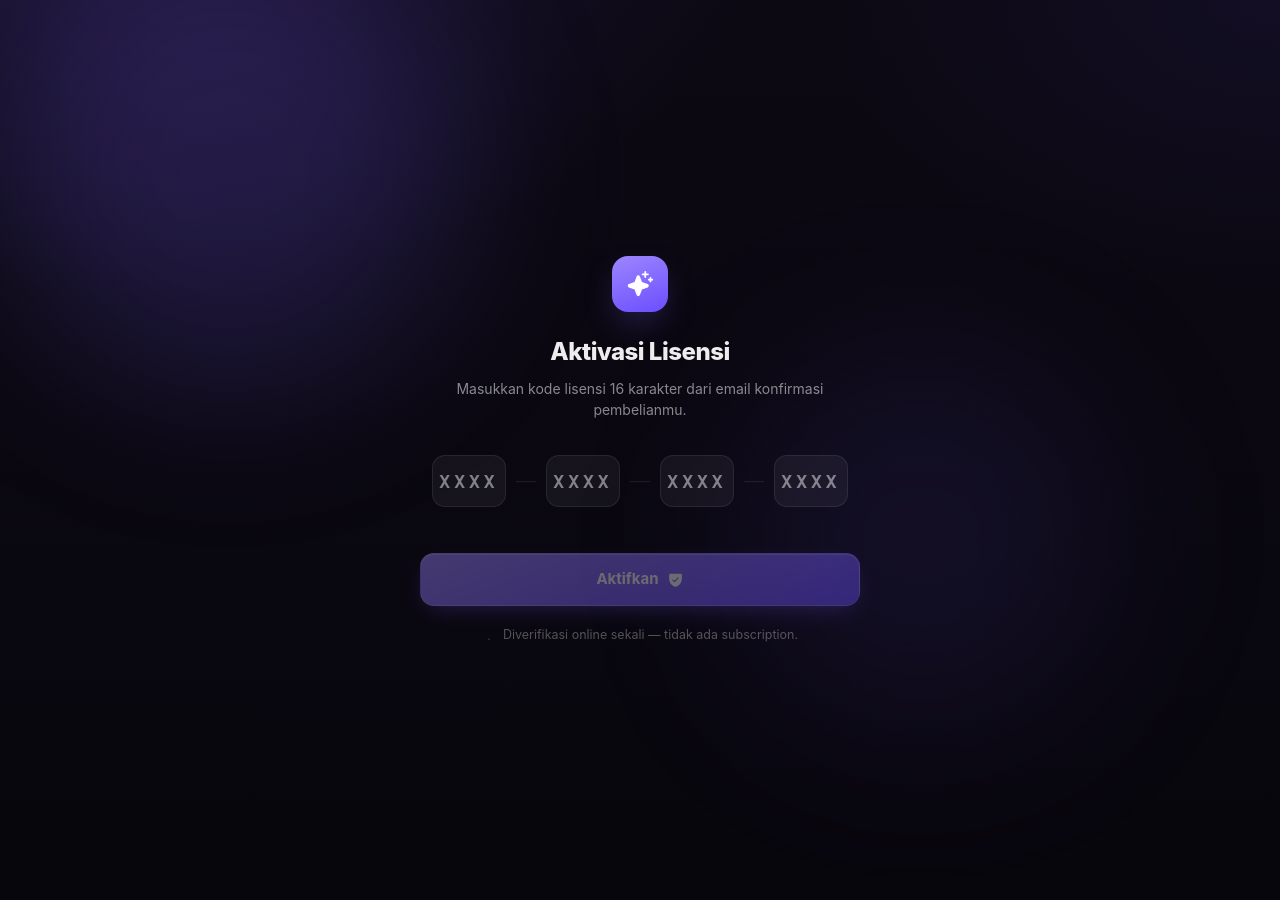
Scenario: ActivationScreen › shows an inline error for an invalid license
This screenshot has width=1280, height=900.
Type "ABCD" into the 1st field with placeholder "XXXX".
click(469, 481); type("ABCD")  # box x1=432 y1=455 x2=506 y2=507
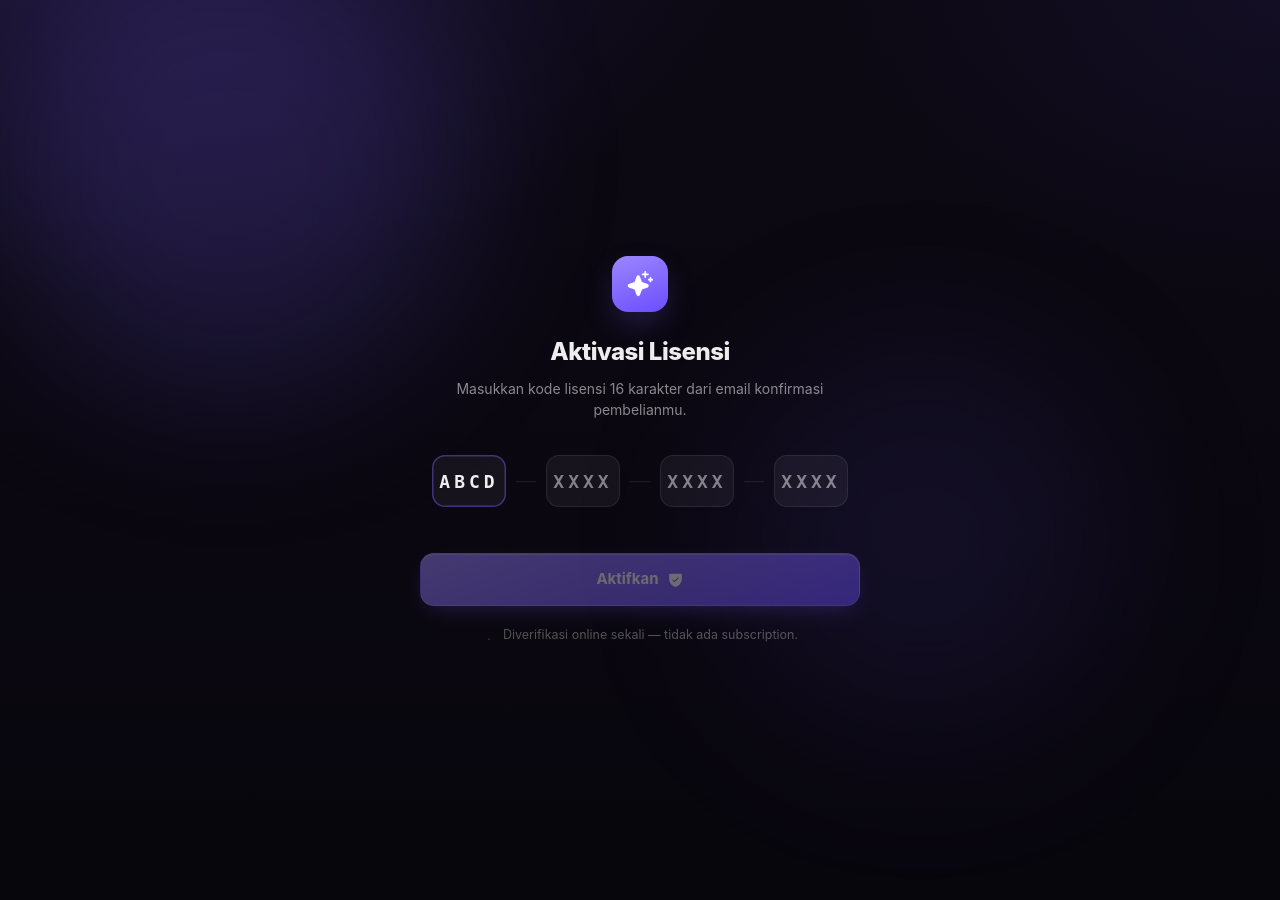
Type "ABCD" into the 1st field with placeholder "XXXX".
click(583, 481); type("ABCD")  # box x1=546 y1=455 x2=620 y2=507
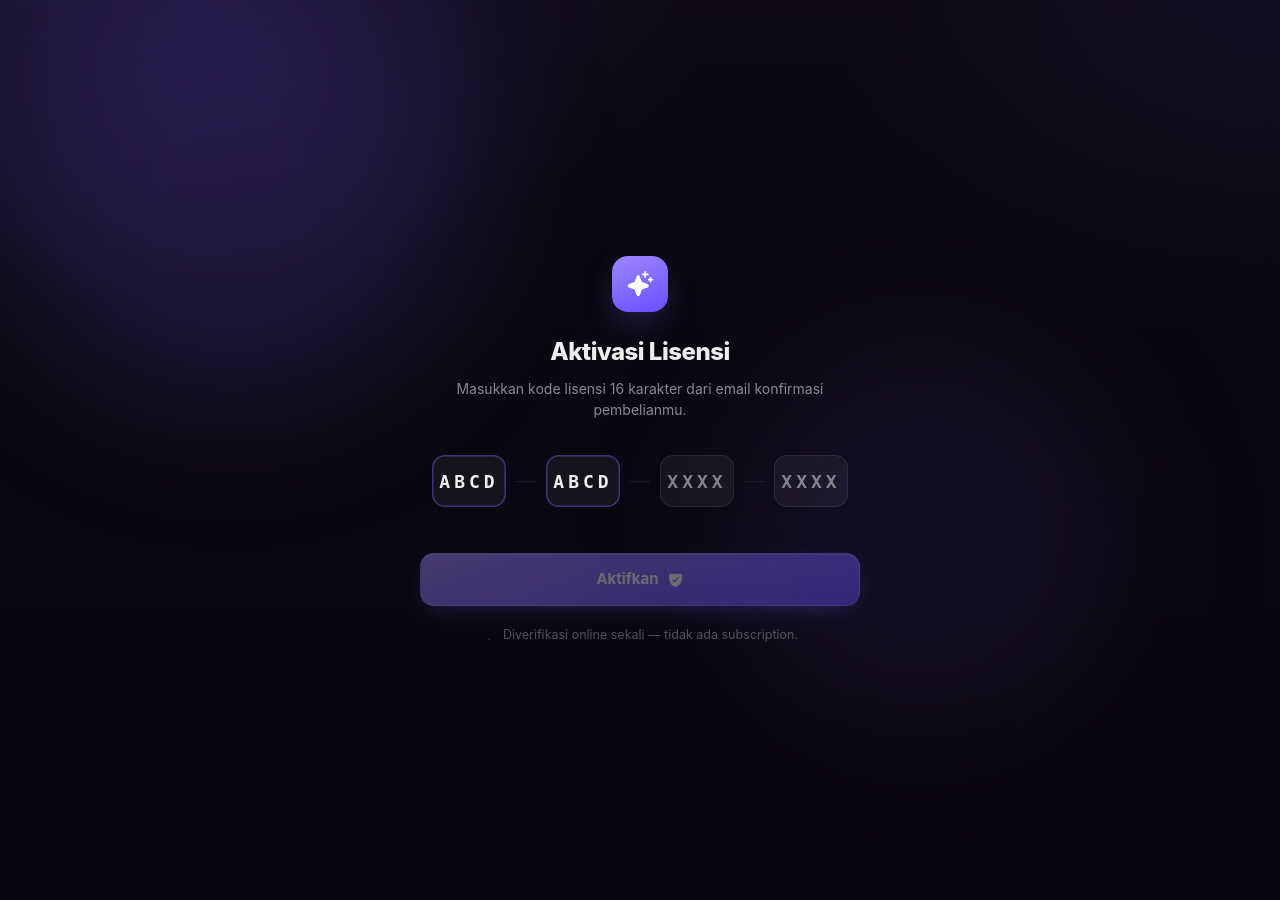
Type "ABCD" into the 1st field with placeholder "XXXX".
click(697, 481); type("ABCD")  # box x1=660 y1=455 x2=734 y2=507
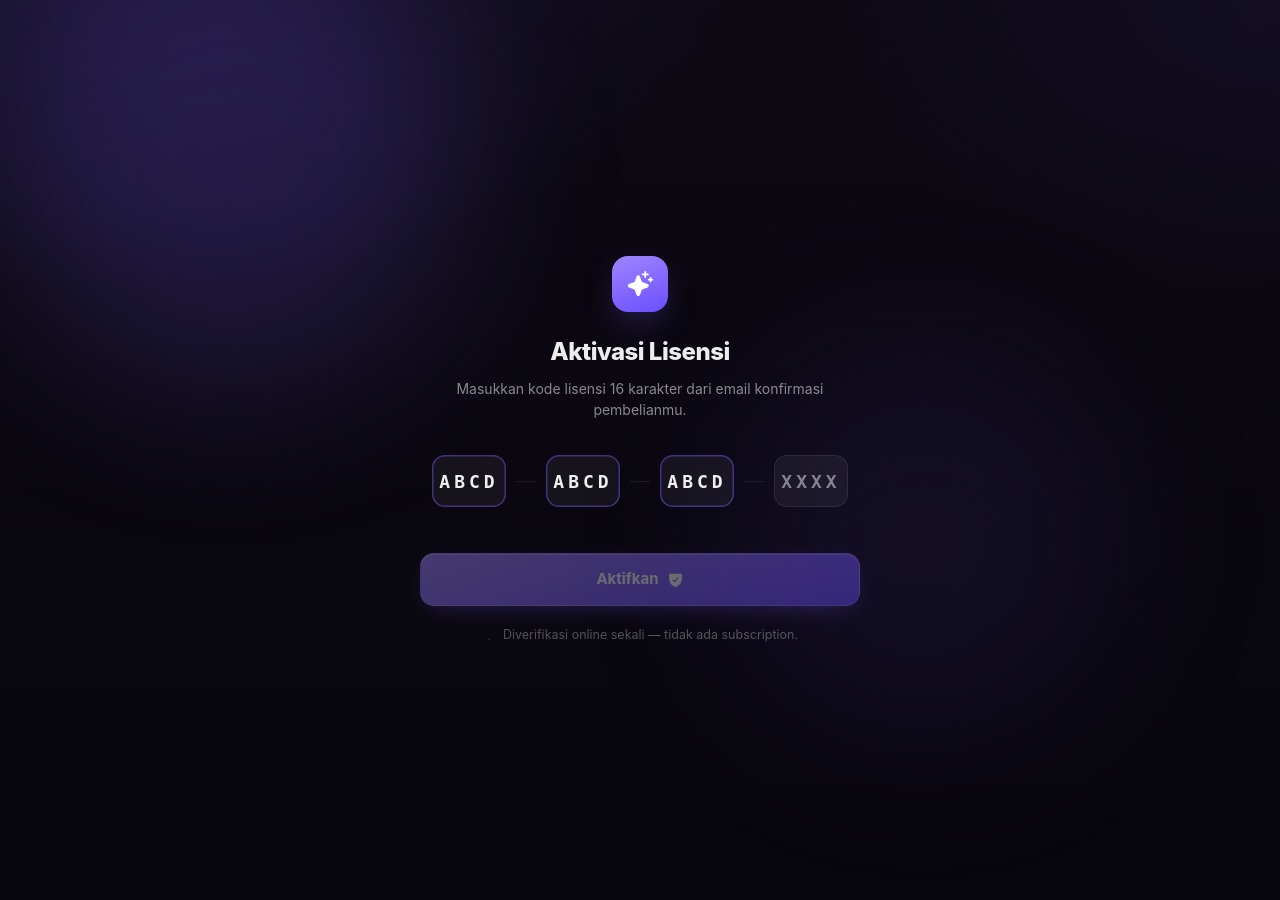
Type "ABCD" into the field with placeholder "XXXX".
click(811, 481); type("ABCD")  # box x1=774 y1=455 x2=848 y2=507
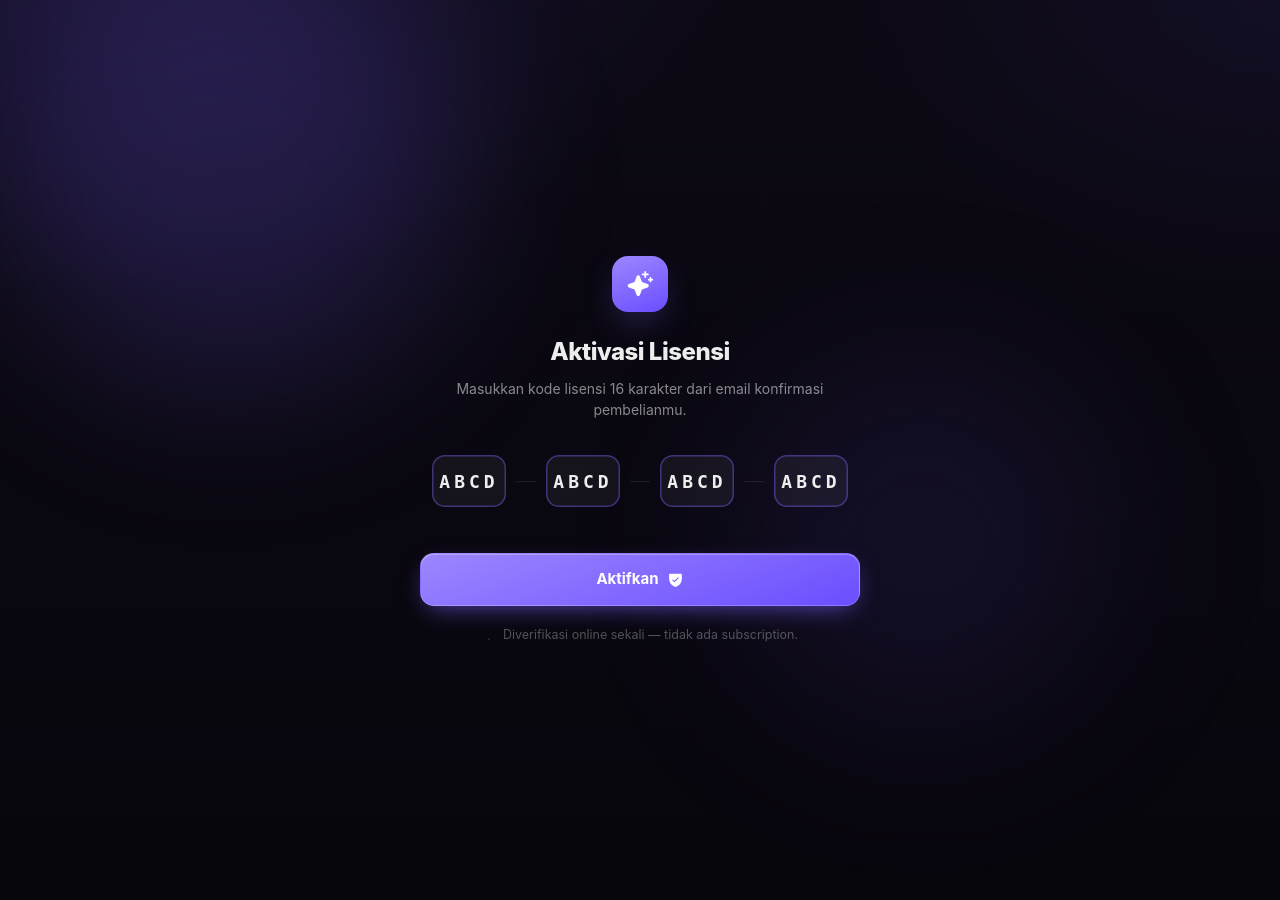
Click the button "Aktifkan".
click(640, 579)  # box x1=420 y1=553 x2=860 y2=606
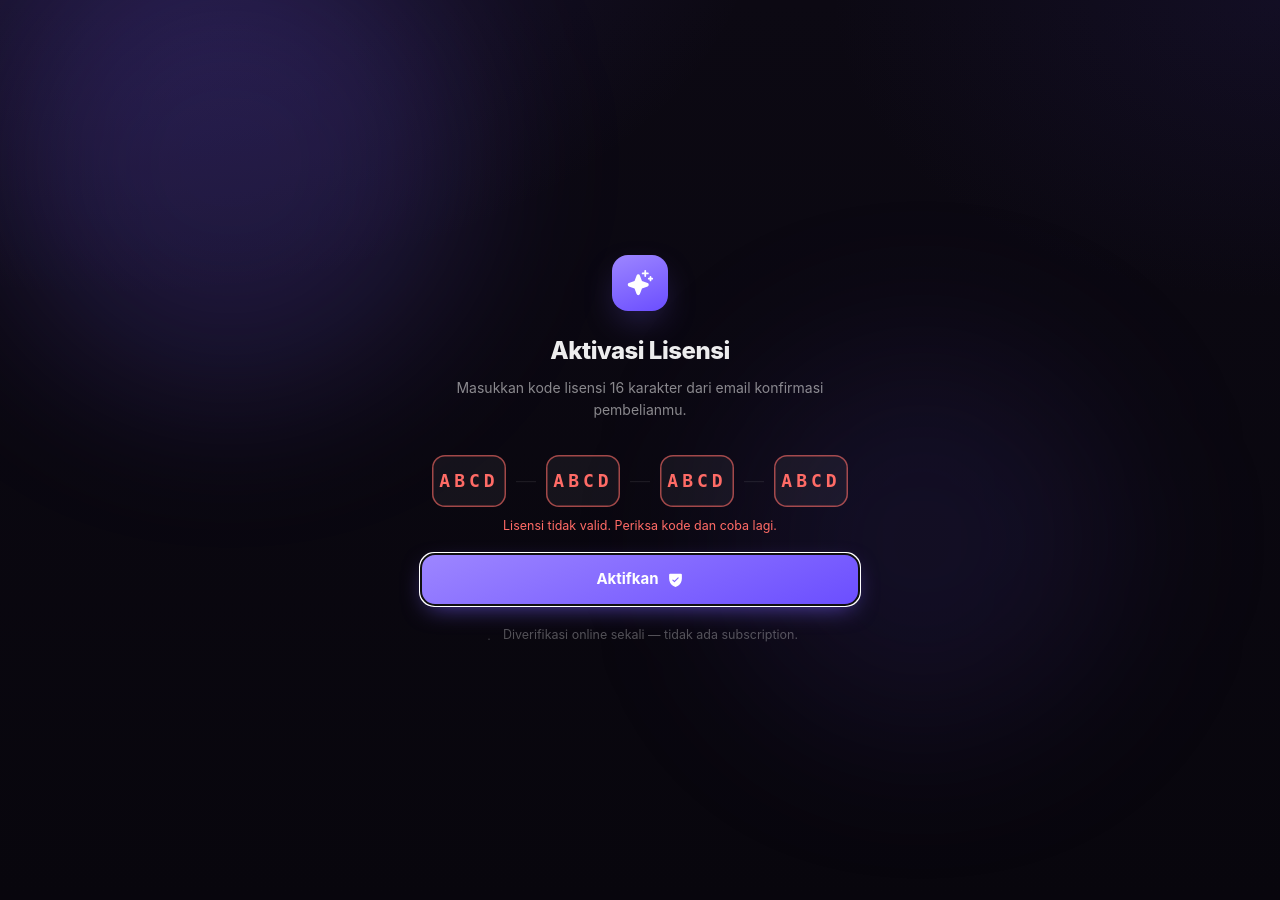
Now the text "Lisensi tidak valid. Periksa kode dan coba lagi." is shown, box x1=503 y1=518 x2=777 y2=533
